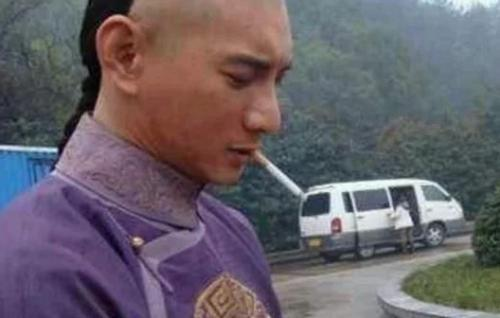smoke: (250, 147, 310, 203)
